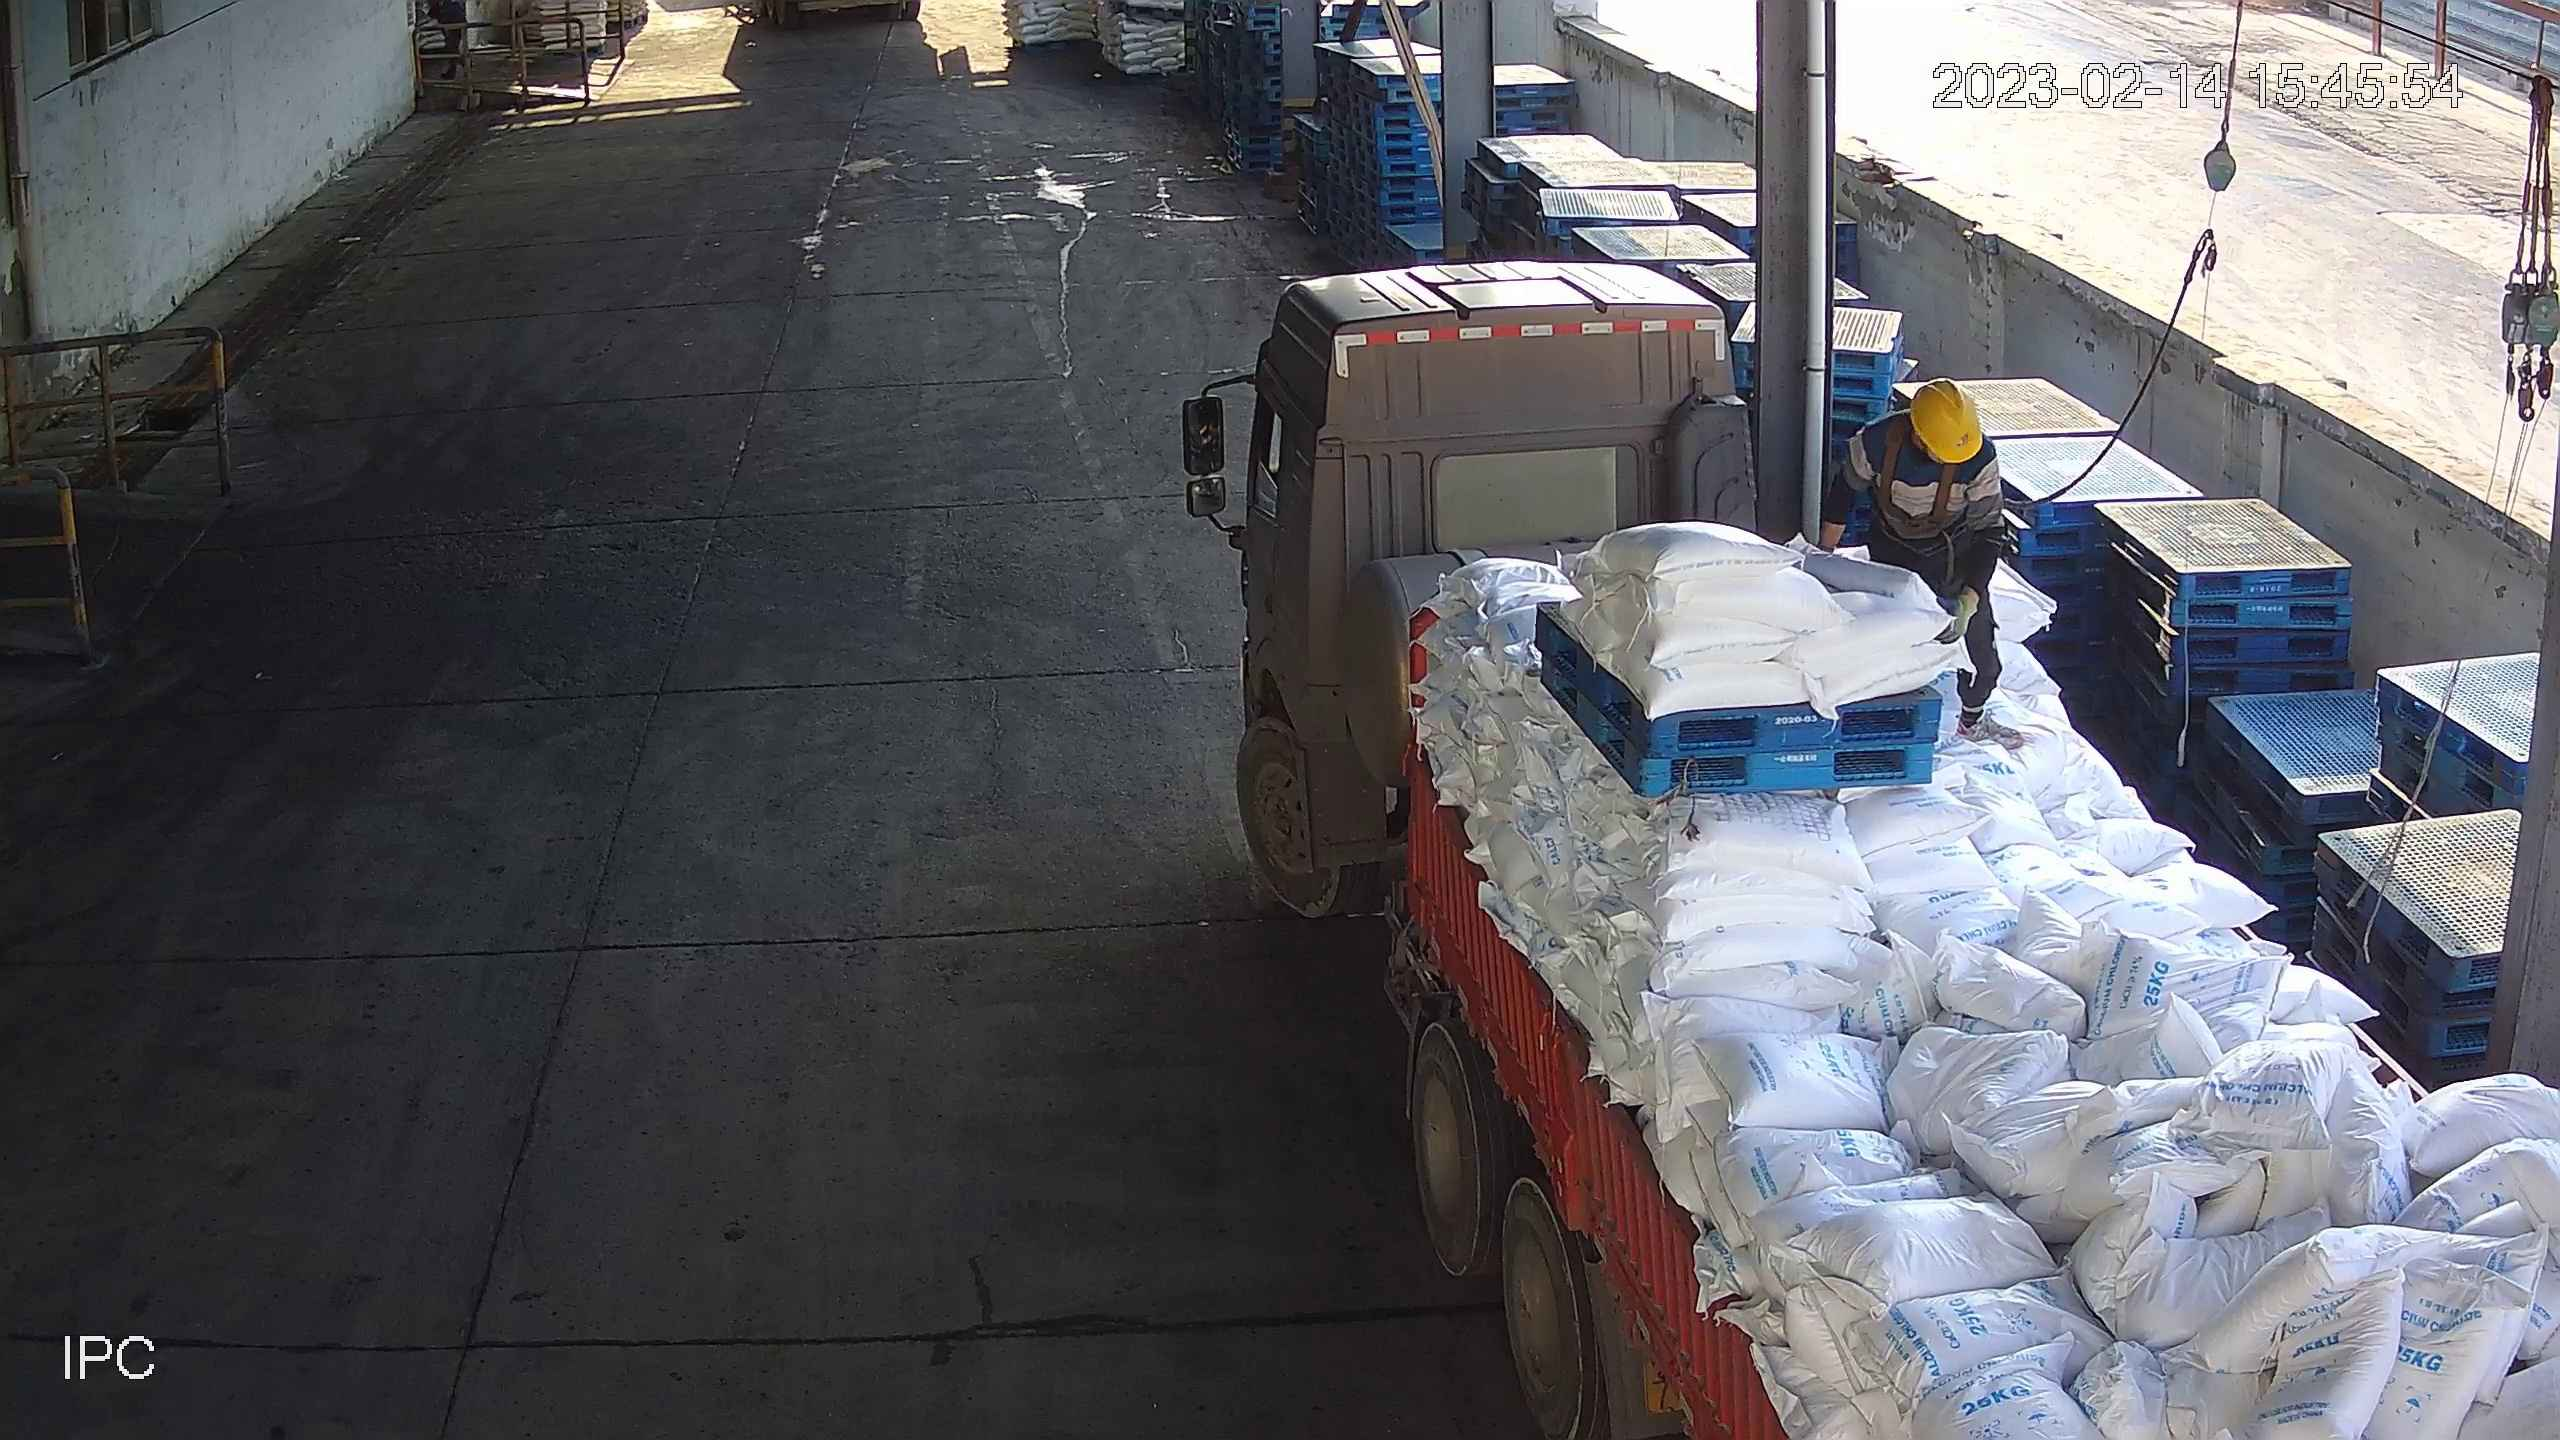belt: (1874, 455, 1962, 535)
head: (1856, 381, 1995, 486)
helmet: (1909, 379, 1986, 465)
people: (1813, 381, 2028, 757)
truck: (1170, 255, 2560, 1440)
